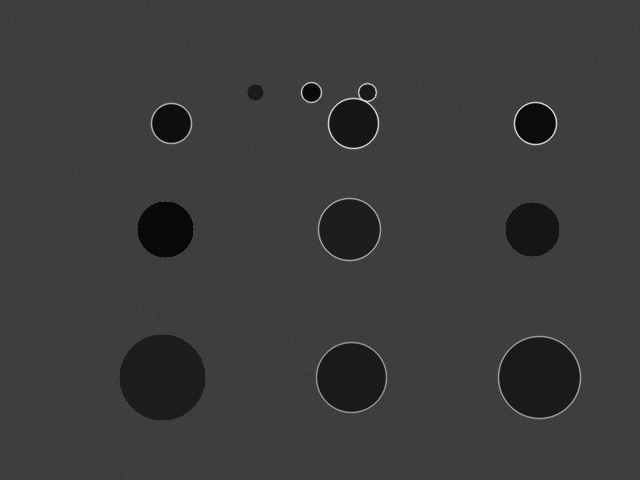hole: (119, 334, 205, 420), (498, 336, 580, 418), (316, 342, 386, 412), (318, 198, 380, 260), (137, 201, 193, 257), (505, 202, 559, 256), (328, 98, 378, 148), (514, 102, 556, 144), (151, 103, 191, 143), (301, 82, 321, 102), (358, 83, 376, 101), (247, 84, 263, 100)
